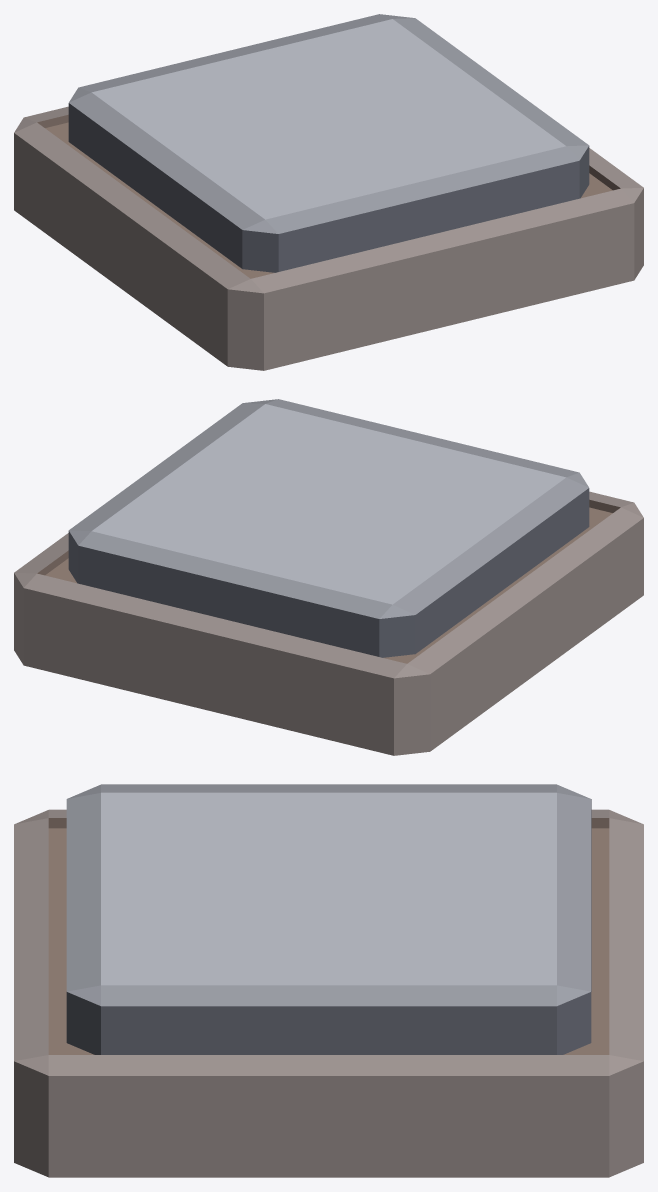
File: pressurePlate.fbx
3 renders of one model, top to bottom at view 1: azimuth 30°, elevation 25°; view 2: azimuth 150°, elevation 25°; view 3: azimuth 270°, elevation 25°, orthographic. The views are drawn at different scales.
Parts seen in each view (by area): view 1: Cube.035, Cube.036; view 2: Cube.035, Cube.036; view 3: Cube.035, Cube.036.
Boxes of the visible parts, bbox=[...] form: Cube.035: bbox=[68, 14, 589, 272]; Cube.036: bbox=[14, 106, 643, 370]; Cube.035: bbox=[68, 399, 589, 657]; Cube.036: bbox=[14, 491, 643, 755]; Cube.035: bbox=[66, 784, 591, 1054]; Cube.036: bbox=[14, 809, 643, 1177].
Bounding box in the file's own units: 120 × 33.96 × 120.
